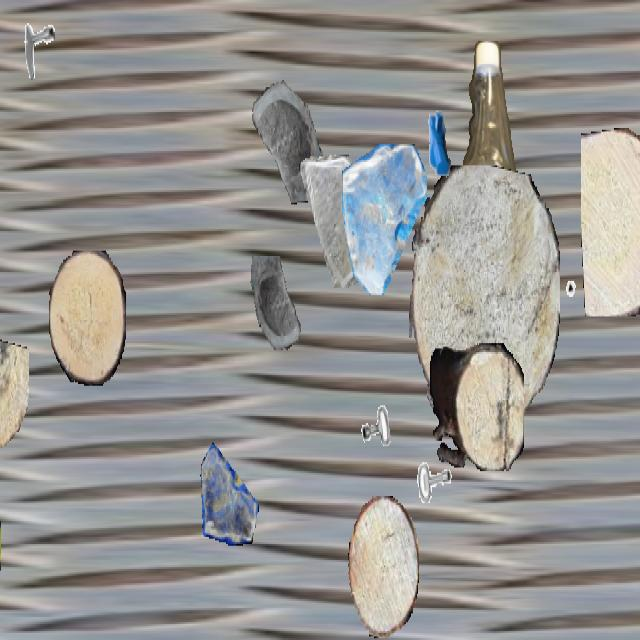glass: (342, 144, 426, 293), (242, 57, 324, 203), (298, 155, 372, 286), (247, 256, 309, 366), (200, 441, 258, 544)
metal: (347, 347, 407, 453), (410, 91, 466, 190), (414, 453, 460, 535), (13, 4, 55, 78), (562, 278, 602, 348)
plastic: (442, 41, 524, 393), (0, 393, 1, 599)
wood: (409, 166, 559, 436), (430, 343, 524, 471), (581, 128, 640, 316), (49, 250, 125, 386), (348, 496, 418, 638), (0, 336, 29, 450)
